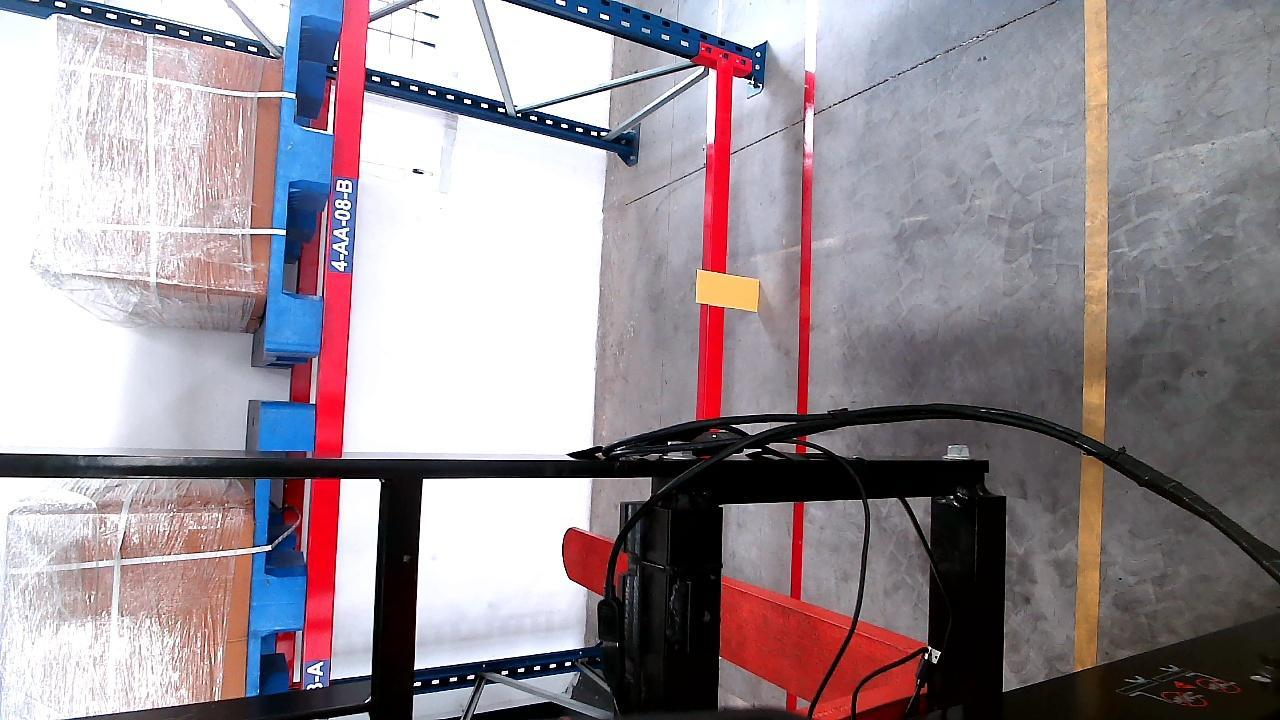red_line: (790, 1, 815, 597)
yellow_line: (1078, 1, 1107, 671)
